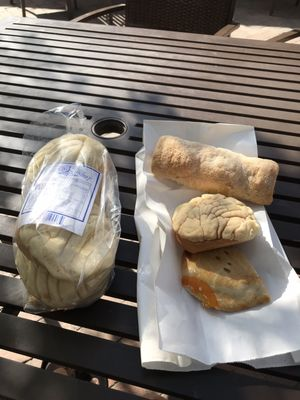soup: (150, 135, 278, 206)
